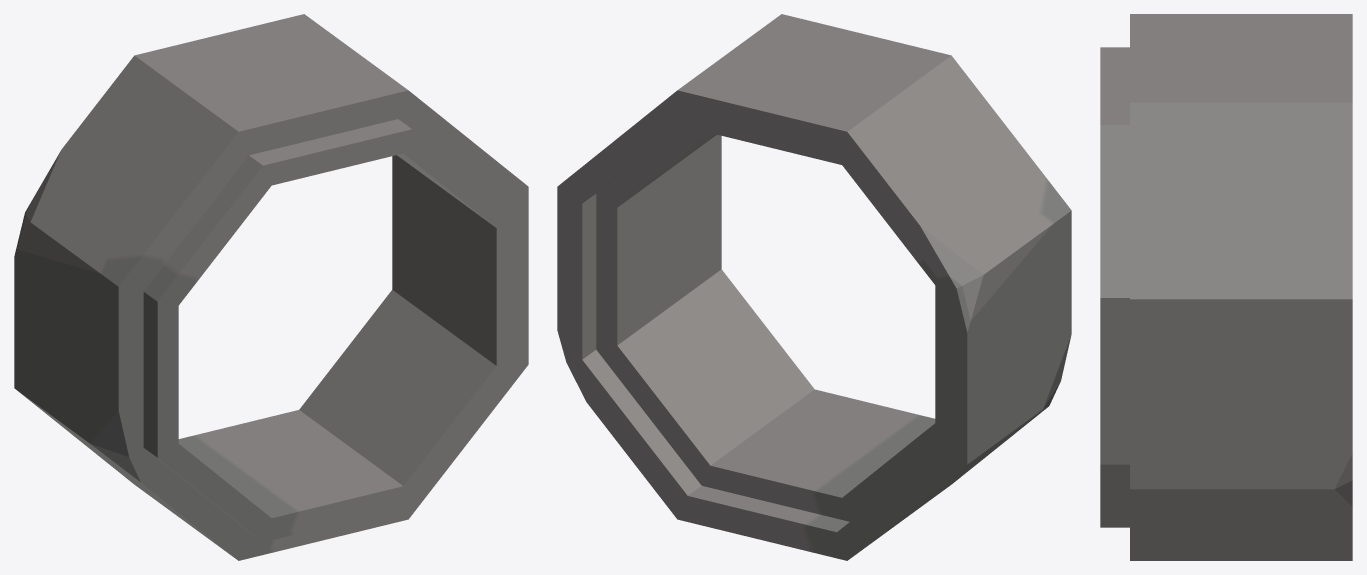
The model's file is SM_Prop_Pipe_Concrete_Huge_03.glb.
3 views of the same model, side by side, from view 1: azimuth 30°, elevation 25°; view 2: azimuth 150°, elevation 25°; view 3: azimuth 270°, elevation 25° (orthographic). The views are drawn at different scales.
Visible parts, largest first — view 1: SM_Prop_Pipe_Concrete_Huge_03; view 2: SM_Prop_Pipe_Concrete_Huge_03; view 3: SM_Prop_Pipe_Concrete_Huge_03.
Boxes of the visible parts, x1=… form: SM_Prop_Pipe_Concrete_Huge_03: x1=14, y1=14, x2=528, y2=560; SM_Prop_Pipe_Concrete_Huge_03: x1=557, y1=14, x2=1071, y2=560; SM_Prop_Pipe_Concrete_Huge_03: x1=1100, y1=14, x2=1352, y2=560.
Bounding box in the file's own units: 2.27 × 2.27 × 1.13.
Materials: 1 (1 with a texture image).
